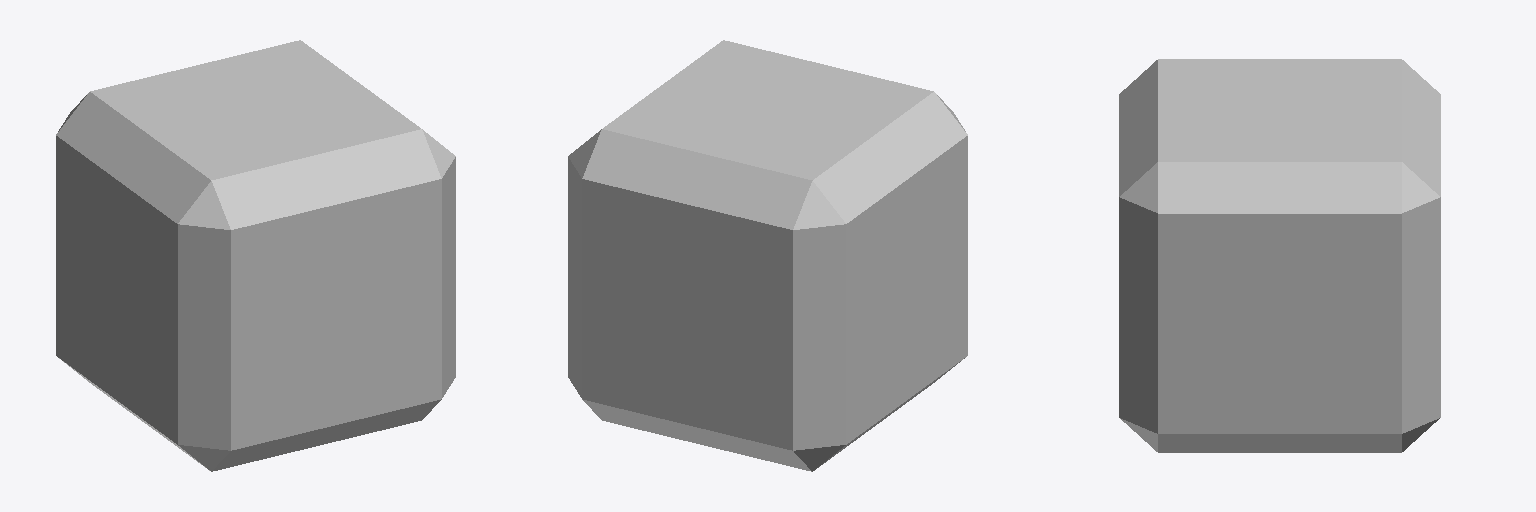
The model's file is rcube.obj.
3 views of the same model, side by side, from view 1: azimuth 30°, elevation 25°; view 2: azimuth 150°, elevation 25°; view 3: azimuth 270°, elevation 25° (orthographic).
Parts seen in each view (by area): view 1: Cube; view 2: Cube; view 3: Cube.
Part boxes in pixels (left/top/right/bottom): Cube: left=56, top=40, right=455, bottom=471; Cube: left=568, top=40, right=967, bottom=471; Cube: left=1119, top=59, right=1440, bottom=452.
Bounding box in the file's own units: 80 × 80 × 80.